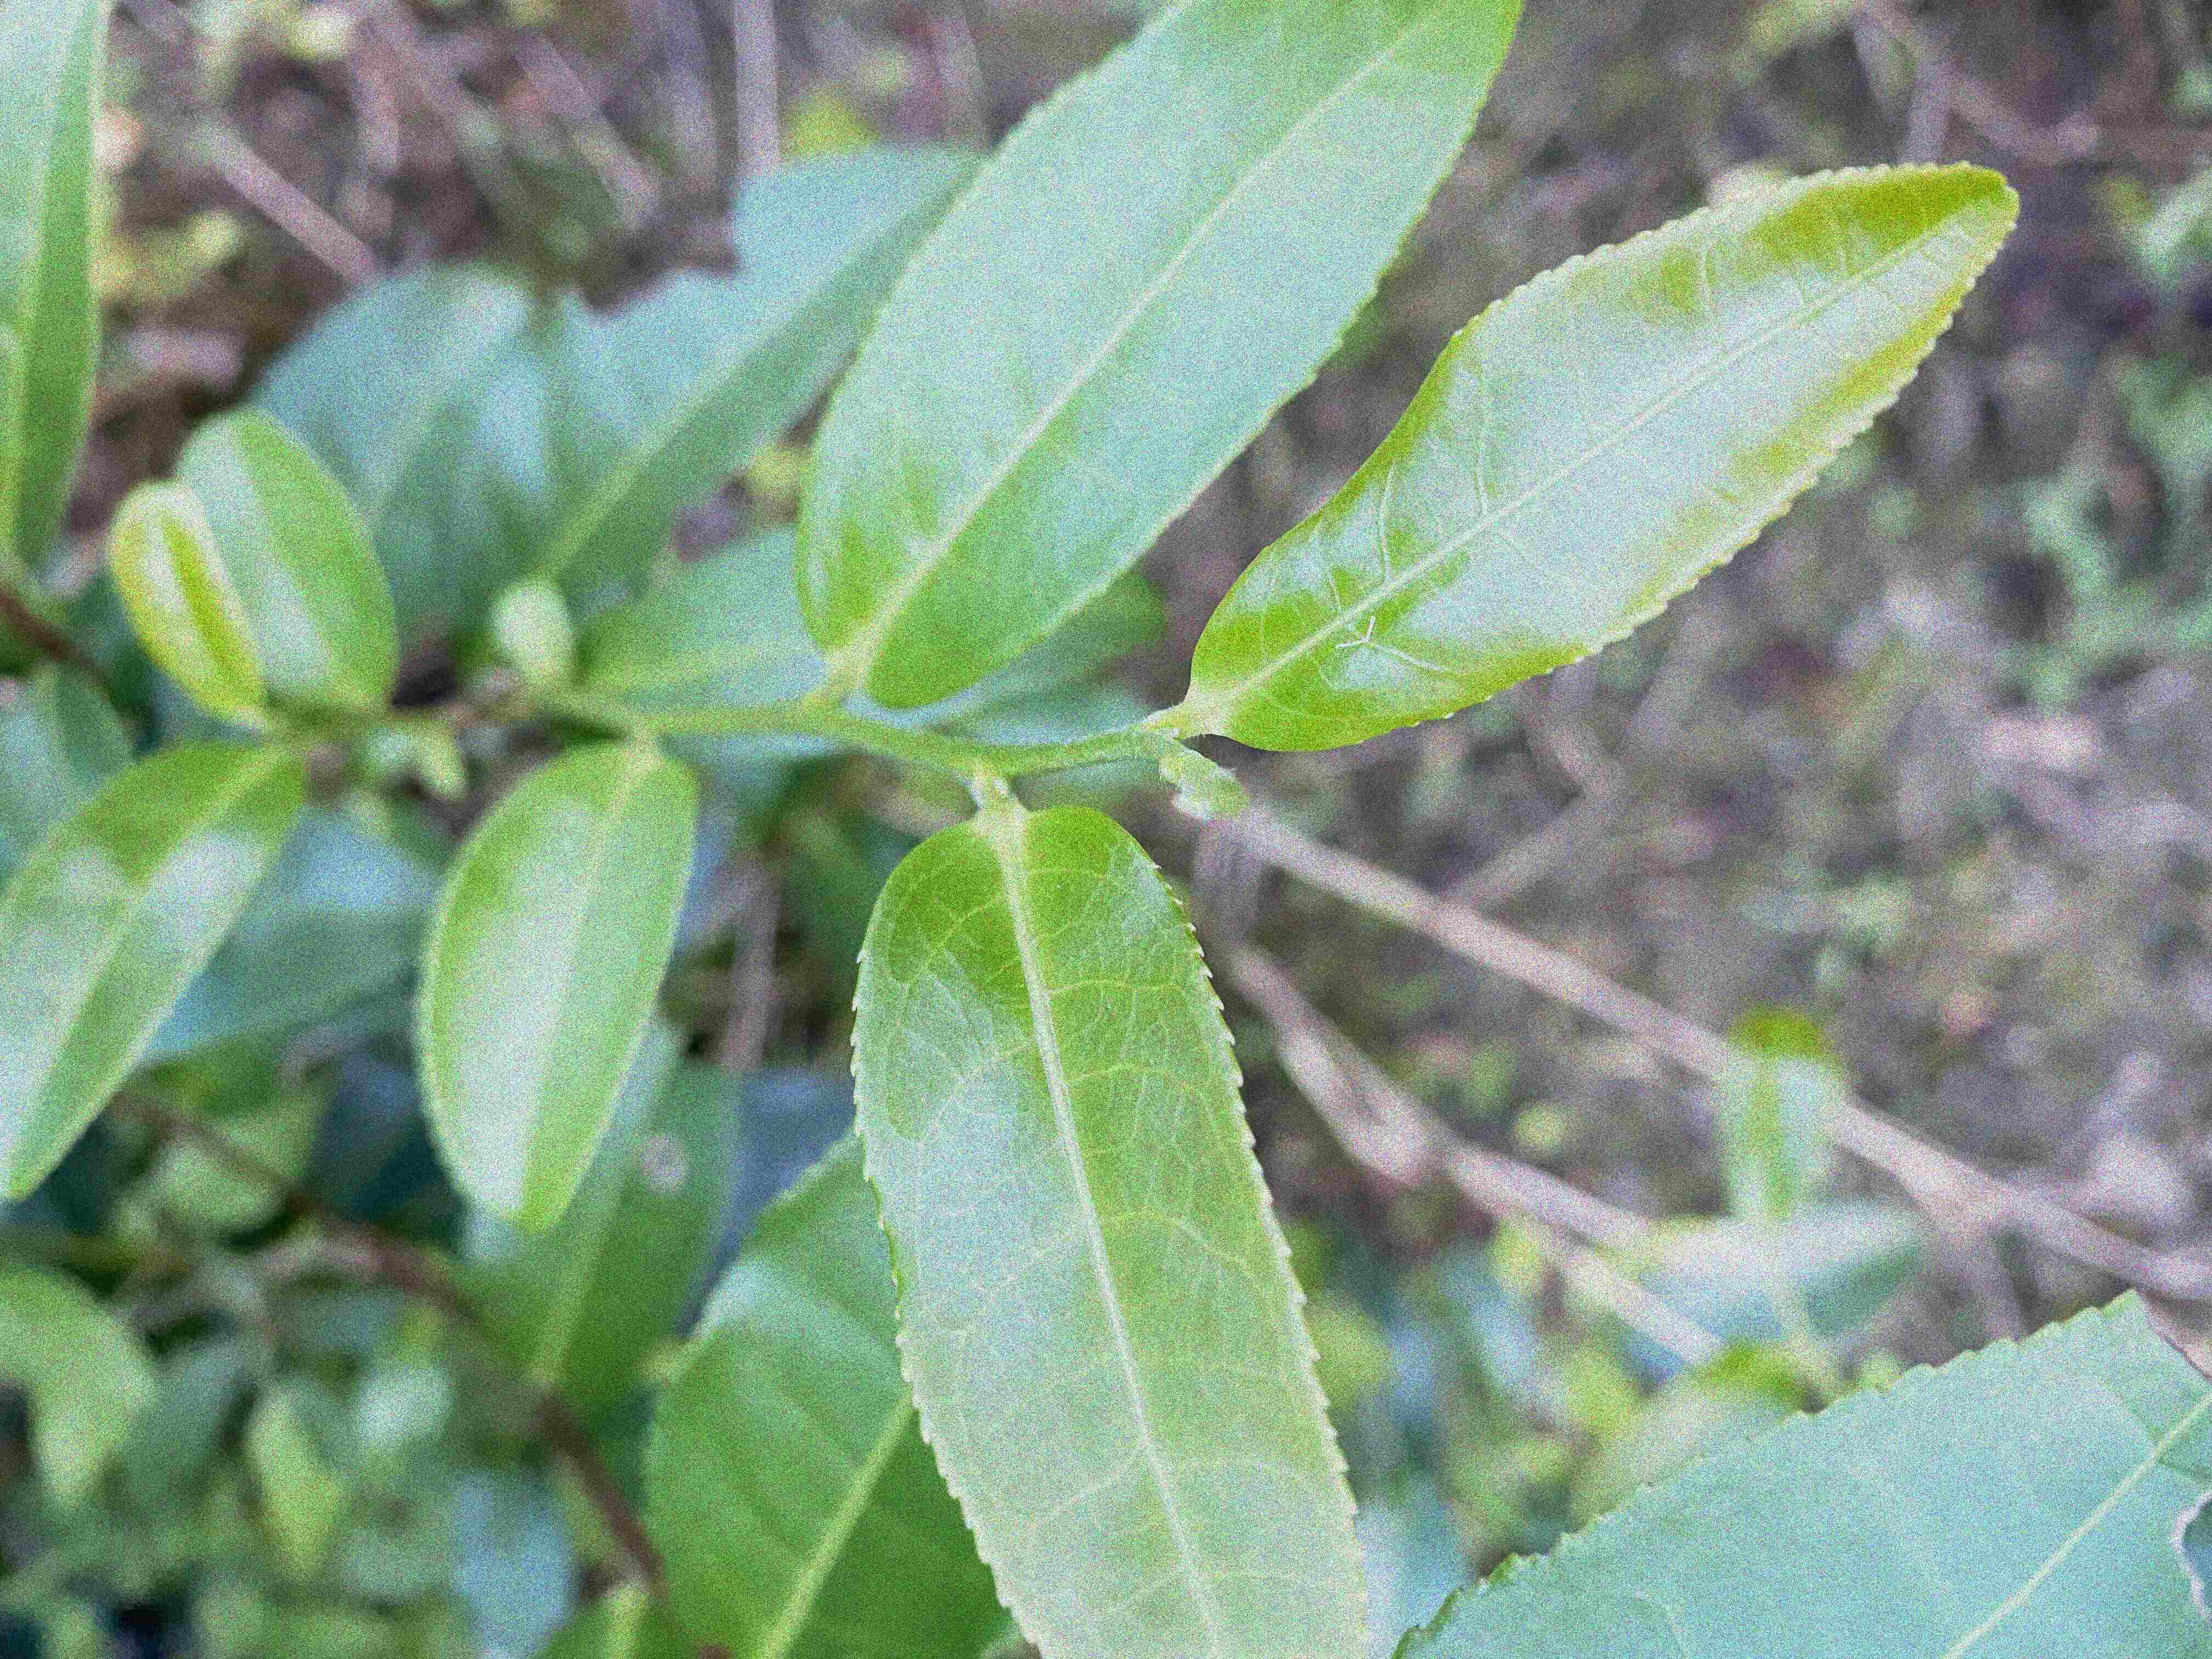healthy: (792, 2, 1522, 711), (1184, 157, 2022, 751), (843, 798, 1369, 1657)
